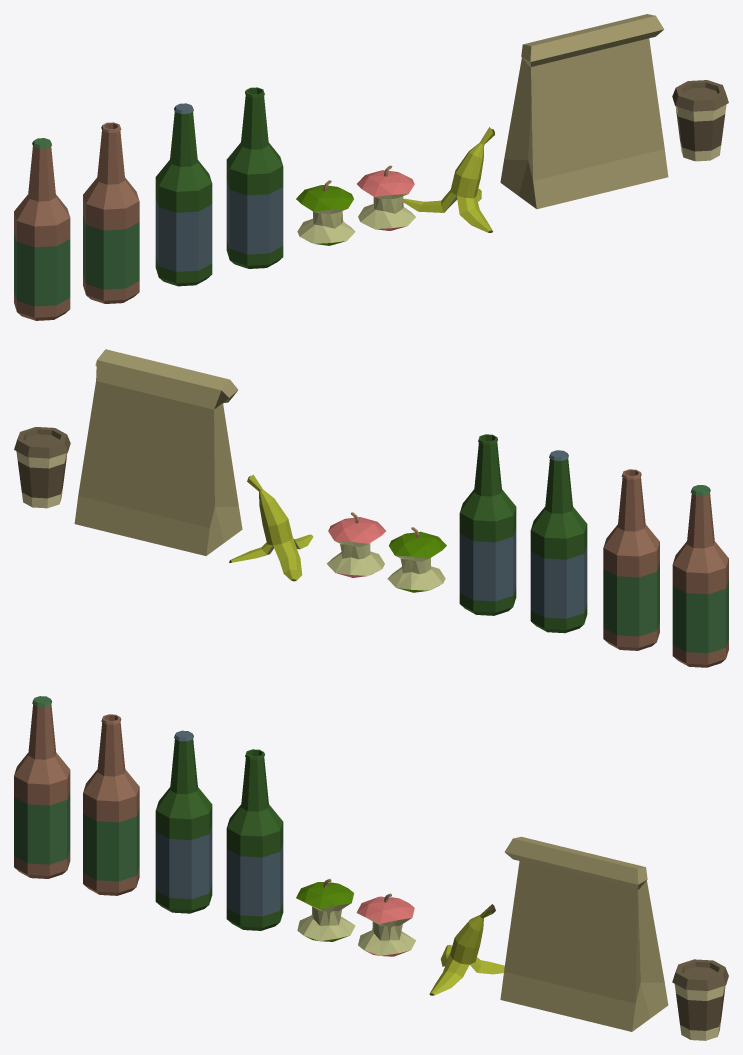
Rendered from cofee_cup.fbx.
The picture shows the model from 3 angles, top to bottom: view 1: azimuth 30°, elevation 25°; view 2: azimuth 150°, elevation 25°; view 3: azimuth 330°, elevation 25°; orthographic projection.
Parts seen in each view (by area): view 1: Cube, Cylinder.001, Cylinder.002, Cylinder, Cylinder.003, Cylinder.004, Banana, Apple_Green, Apple_Red; view 2: Cube, Cylinder.001, Cylinder.002, Cylinder, Cylinder.003, Cylinder.004, Banana, Apple_Green, Apple_Red; view 3: Cube, Cylinder.001, Cylinder.002, Cylinder, Cylinder.003, Cylinder.004, Apple_Red, Apple_Green, Banana.
Boxes of the visible parts, box(x1,y1,x2,y2) form: Cube: box(500, 14, 668, 209); Cylinder.001: box(155, 103, 212, 286); Cylinder.002: box(226, 87, 283, 268); Cylinder: box(14, 138, 70, 320); Cylinder.003: box(83, 122, 139, 303); Cylinder.004: box(672, 80, 728, 161); Banana: box(403, 127, 494, 232); Apple_Green: box(296, 180, 355, 245); Apple_Red: box(357, 165, 415, 230); Cube: box(74, 349, 242, 555); Cylinder.001: box(530, 450, 587, 633); Cylinder.002: box(459, 434, 516, 615); Cylinder: box(672, 485, 728, 667); Cylinder.003: box(603, 469, 659, 650); Cylinder.004: box(14, 427, 70, 508); Banana: box(229, 474, 313, 581); Apple_Green: box(387, 527, 446, 592); Apple_Red: box(327, 512, 385, 577); Cube: box(500, 836, 668, 1031); Cylinder.001: box(155, 730, 212, 913); Cylinder.002: box(226, 749, 283, 930); Cylinder: box(14, 696, 70, 878); Cylinder.003: box(83, 714, 139, 895); Cylinder.004: box(672, 959, 728, 1040); Apple_Red: box(356, 893, 415, 956); Apple_Green: box(296, 879, 355, 941); Banana: box(429, 904, 504, 995).
Bounding box in the file's own units: 122 × 28.36 × 15.96.
